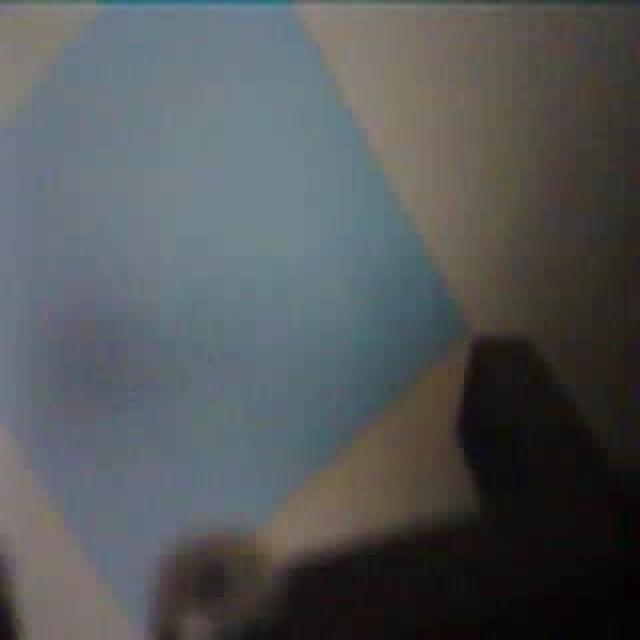blue_box: (0, 0, 476, 637)
